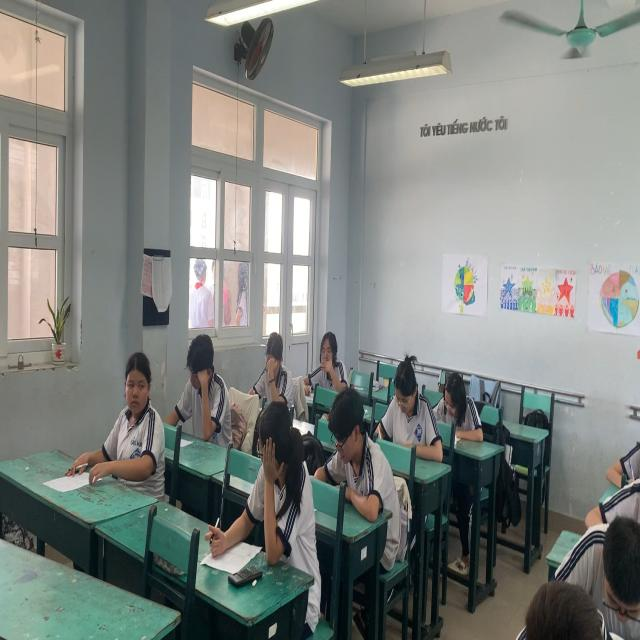cheating: (237, 389, 317, 582), (97, 343, 167, 494)
not_cheating: (501, 532, 640, 639), (317, 378, 389, 534), (565, 492, 640, 640), (171, 317, 230, 466), (379, 346, 432, 466), (240, 309, 296, 420), (596, 440, 640, 576), (430, 348, 482, 448), (301, 304, 348, 402), (609, 385, 640, 516)
